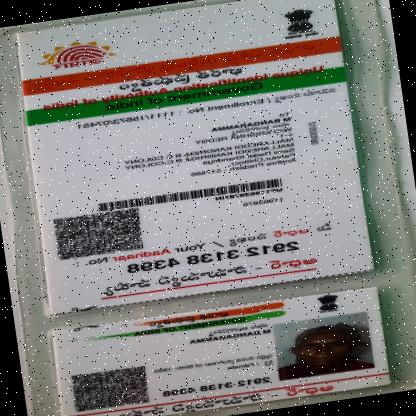aadhaar_card: (0, 0, 401, 415)
